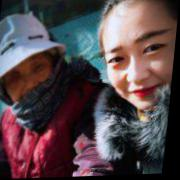NONE: (100, 15, 179, 114)
WRONG: (3, 52, 62, 117)
